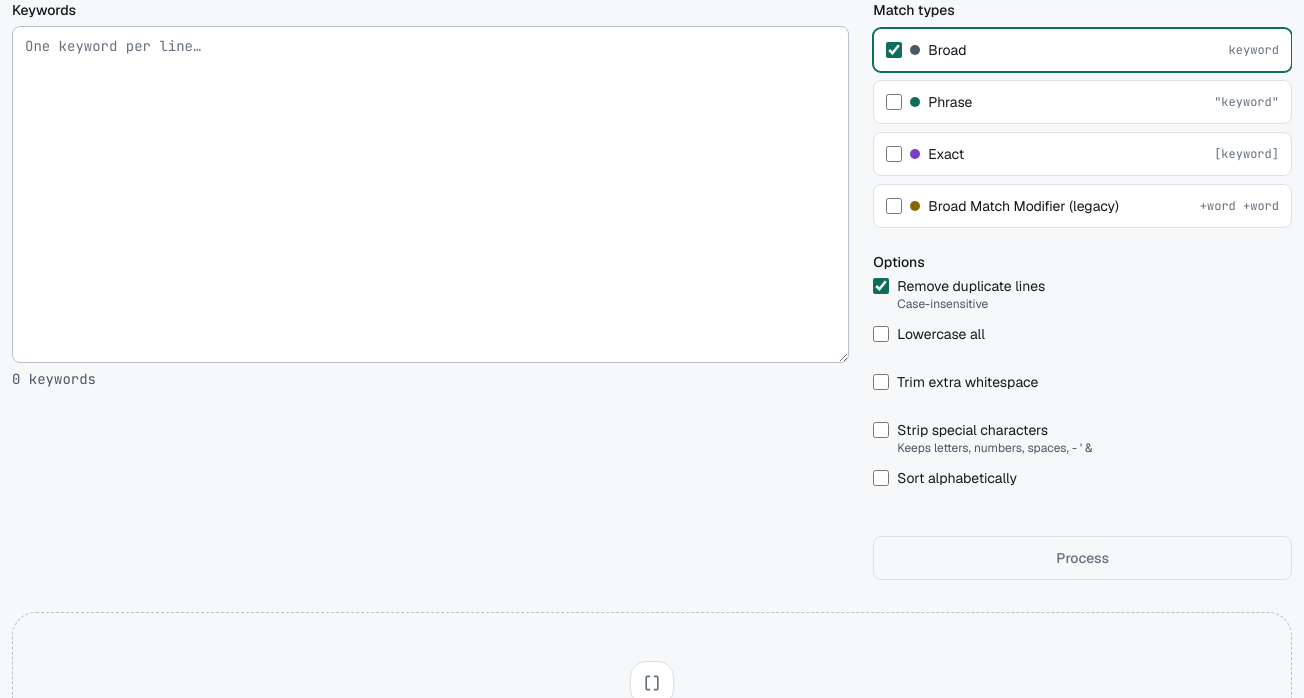
Test case: MatchTypeApp › checking a new match type after processing reprocesses automatically instead of showing a false empty result
Click the text box labelled "Keywords" at x=431, y=194, box [12,26,849,362]
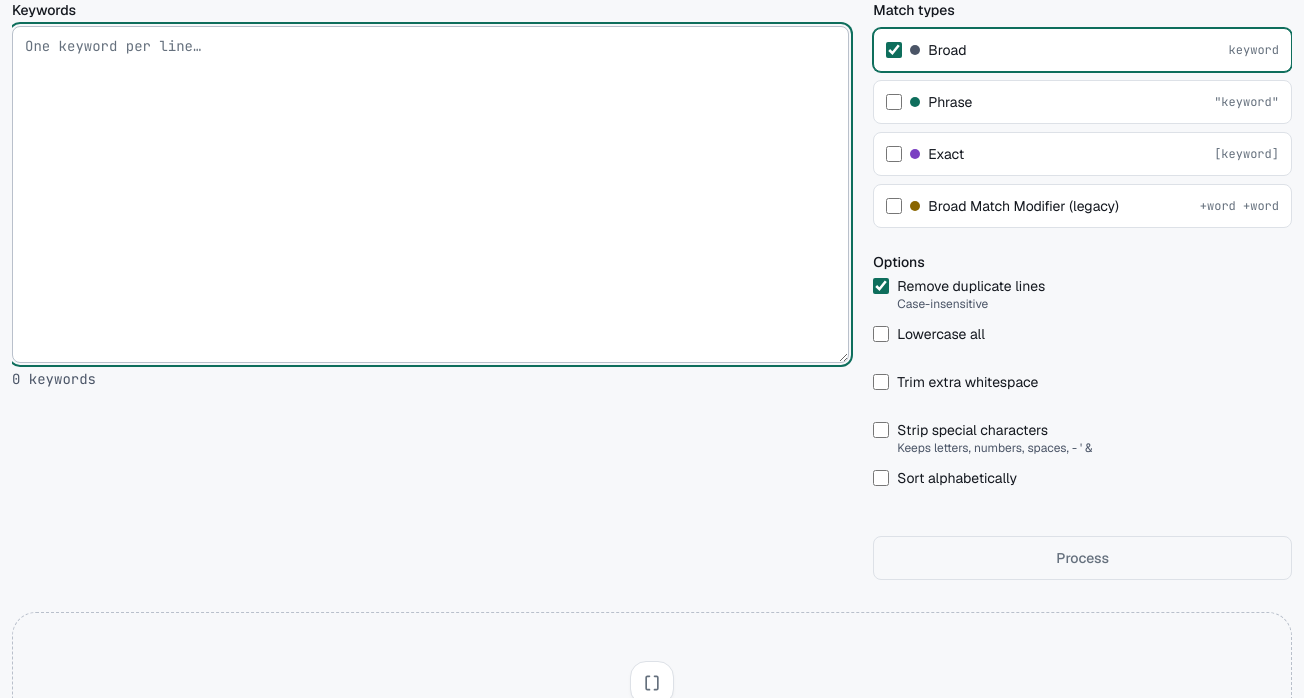
Type keys "running shoes"
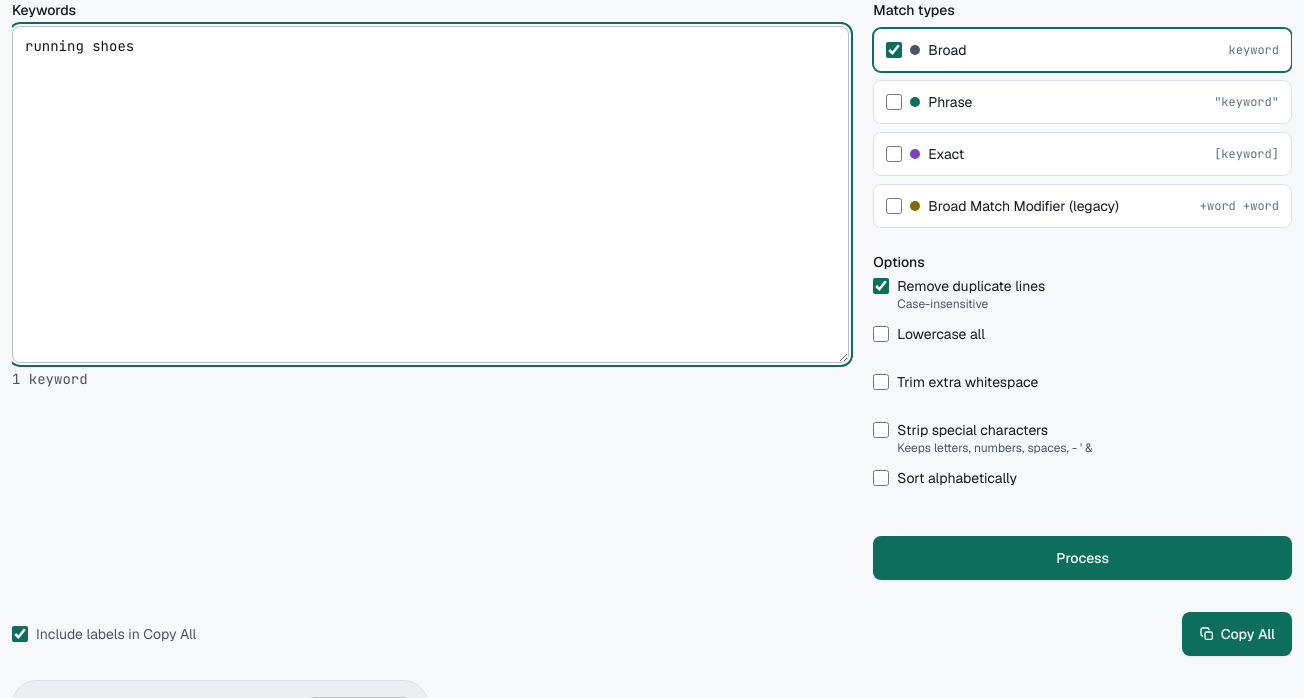
Click the checkbox labelled "Exact [keyword]" at x=894, y=154, box [886,146,902,162]
(page scrolled)
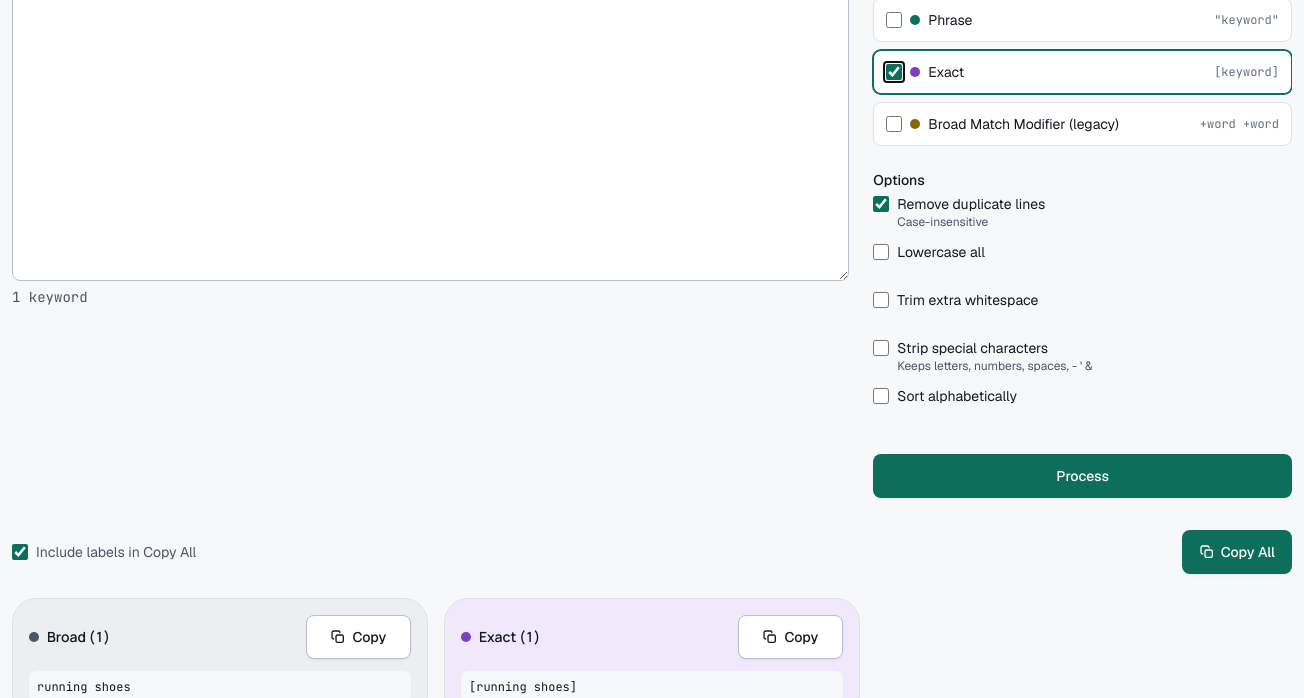
Now the heading "Exact (1)" is shown, box [461,627,540,647]
